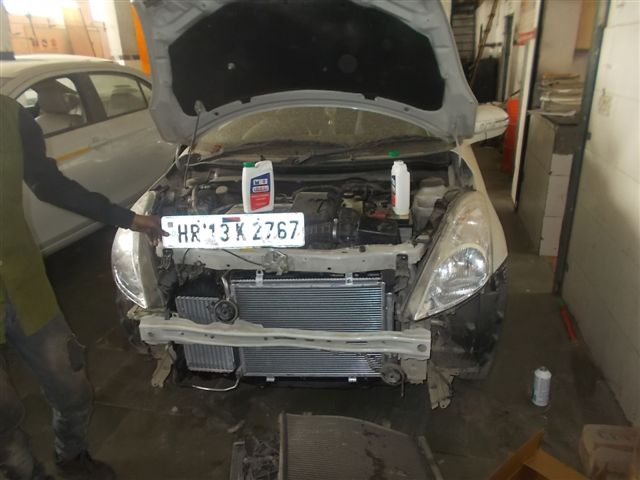Large_tear_or_damage: (103, 198, 530, 399)
